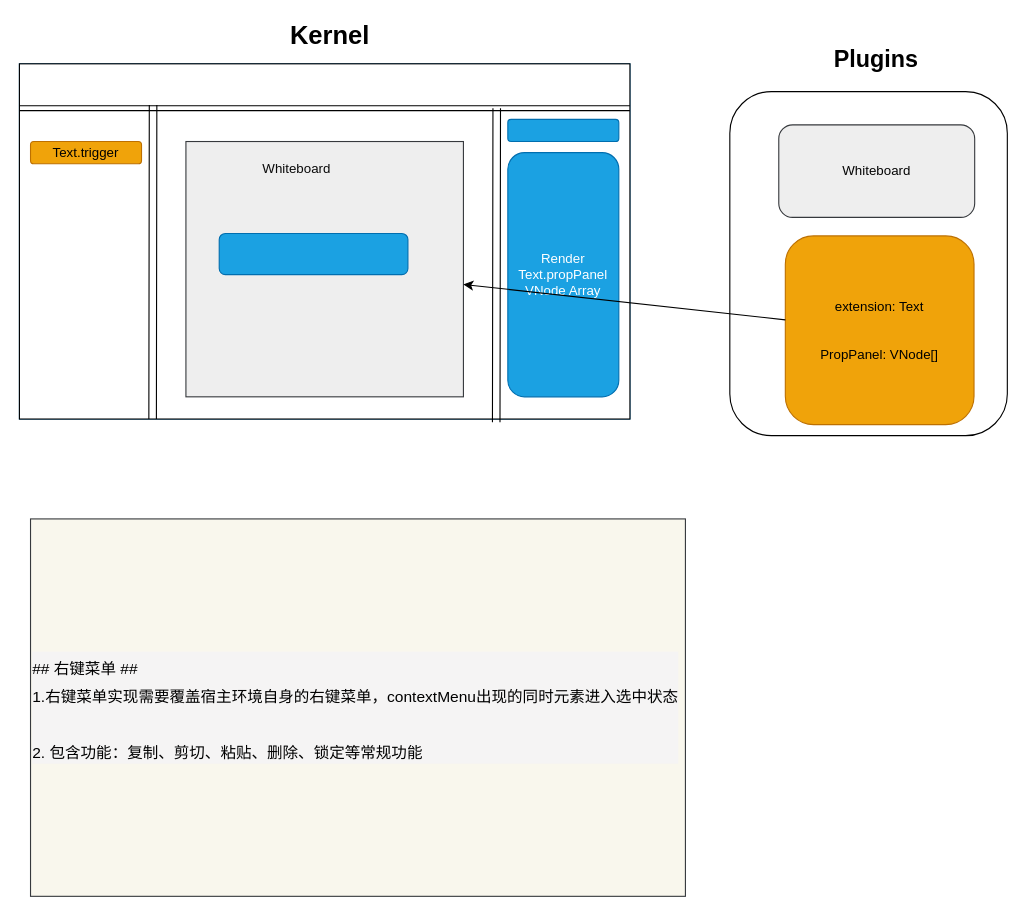
Image size: 1027x916. Some labels were removed from this diagram. The shapes that lost their labels are listed below. From the top down, each one's centre as x and y in pixels, then its label:
the point at 563,130: Text.propPanel
the point at 313,253: Text.view
